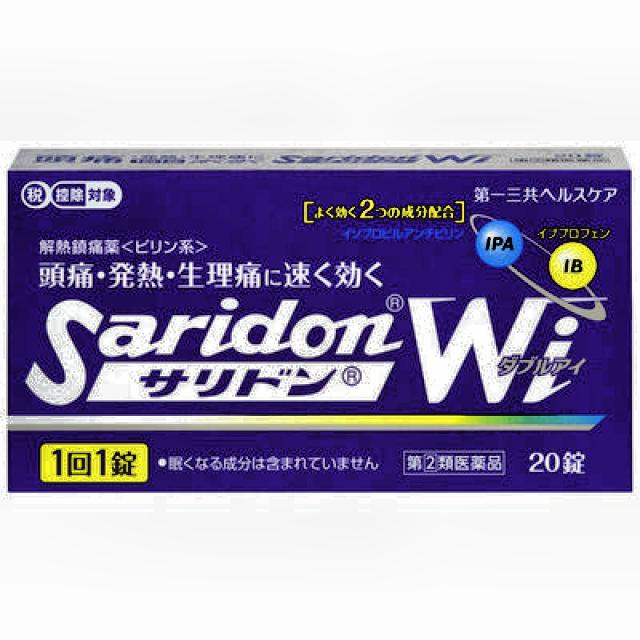Saridon: (36, 294, 402, 428)
